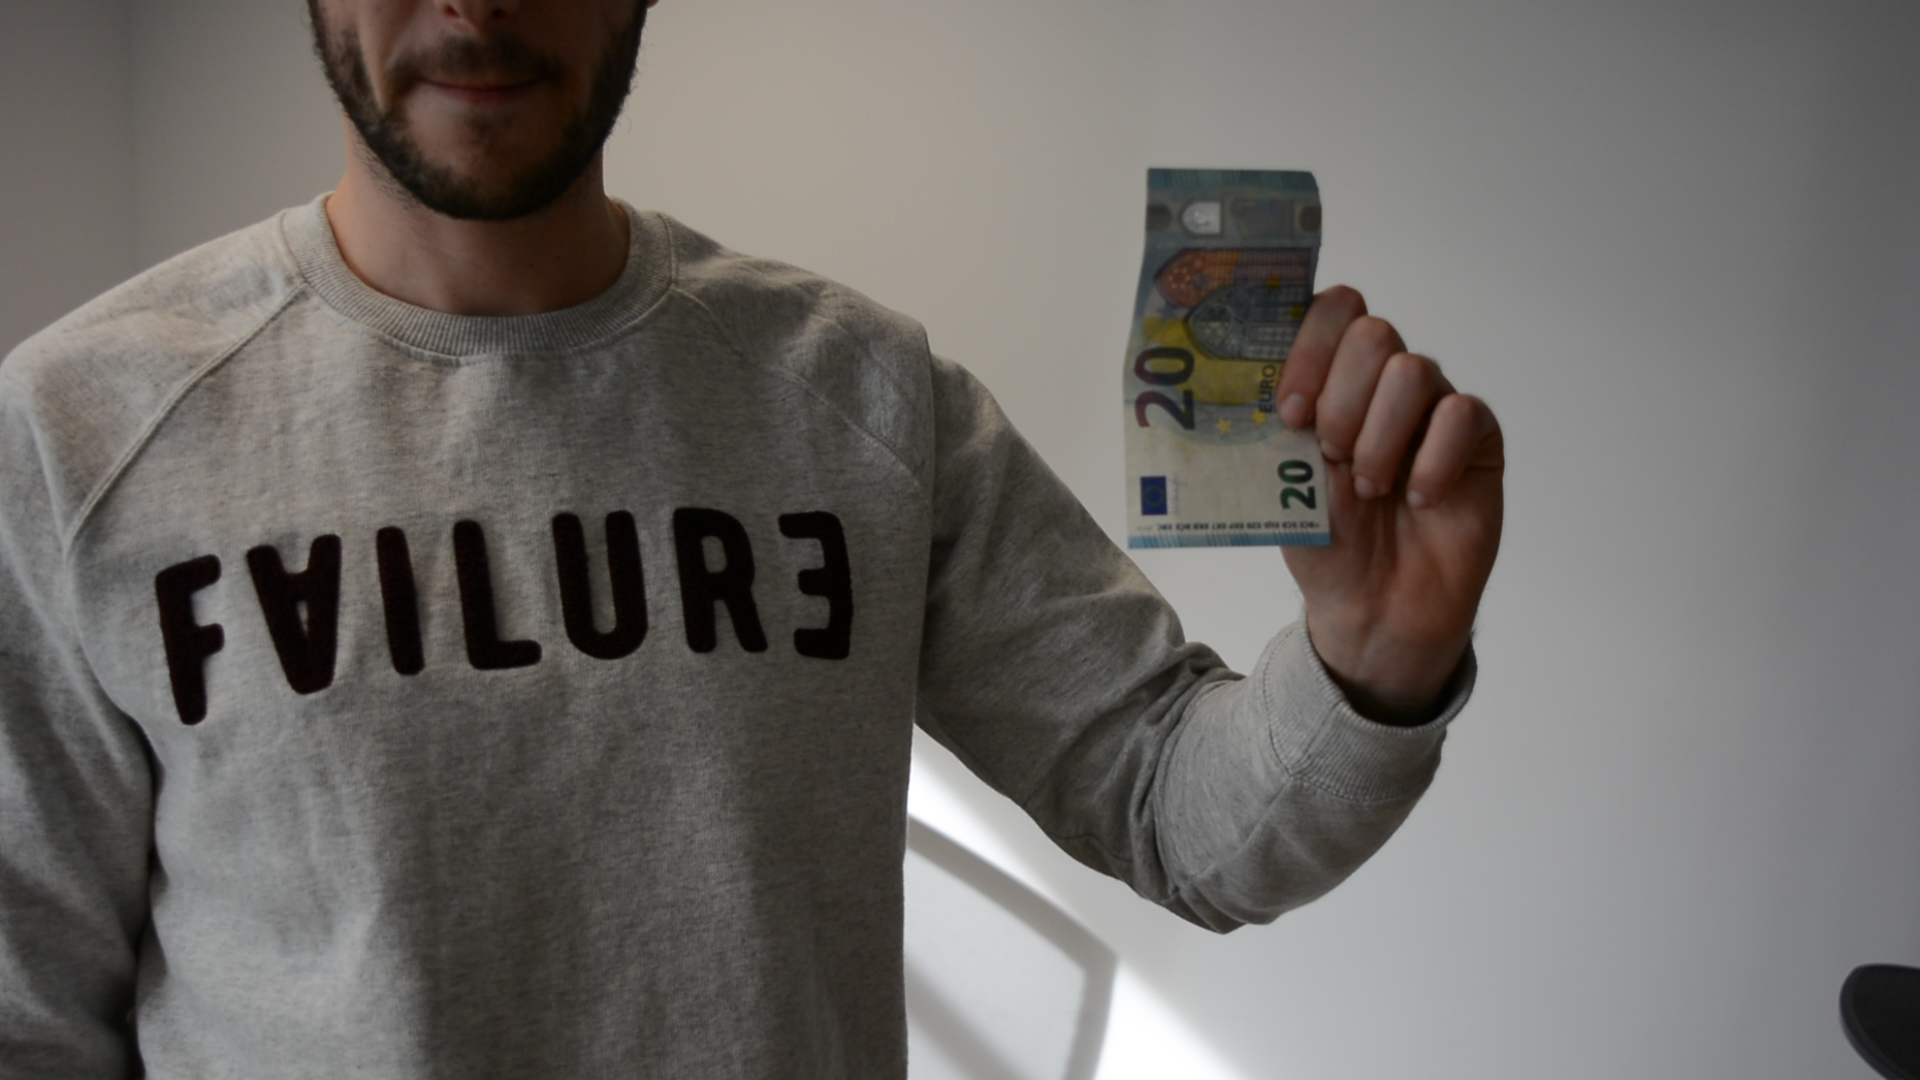billete: (1121, 165, 1335, 555)
